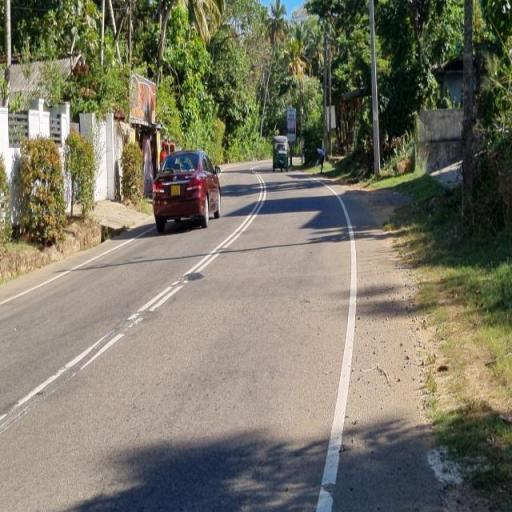double_white_line: (127, 172, 268, 326)
